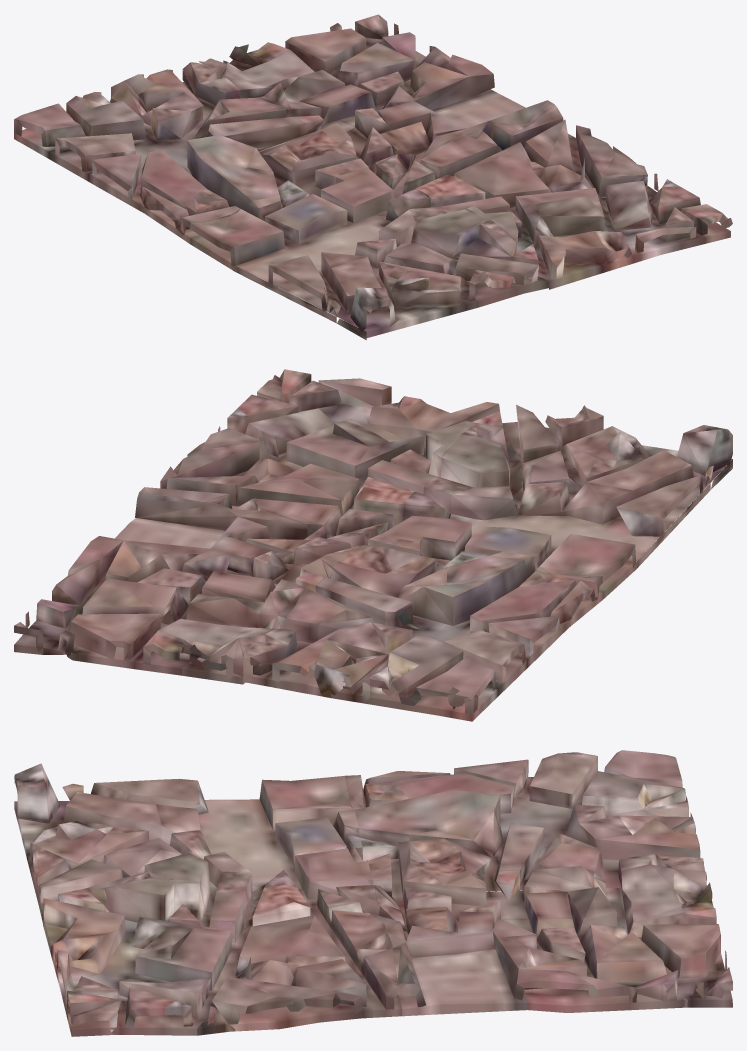
The picture shows the model from 3 angles, top to bottom: view 1: azimuth 30°, elevation 25°; view 2: azimuth 150°, elevation 25°; view 3: azimuth 270°, elevation 25°; orthographic projection. The views are drawn at different scales.
Parts seen in each view (by area): view 1: Mesh_0; view 2: Mesh_0; view 3: Mesh_0.
Part boxes in pixels (x1,y1,x2,y2): Mesh_0: (14,14,732,340); Mesh_0: (14,369,732,721); Mesh_0: (14,750,732,1036).
Size of the model in its own units: 535 by 66.62 by 659.
Materials: 2 (2 with a texture image).
